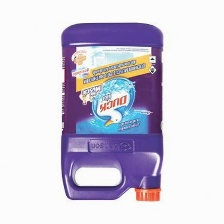cleaning_solution: (57, 20, 168, 206)
